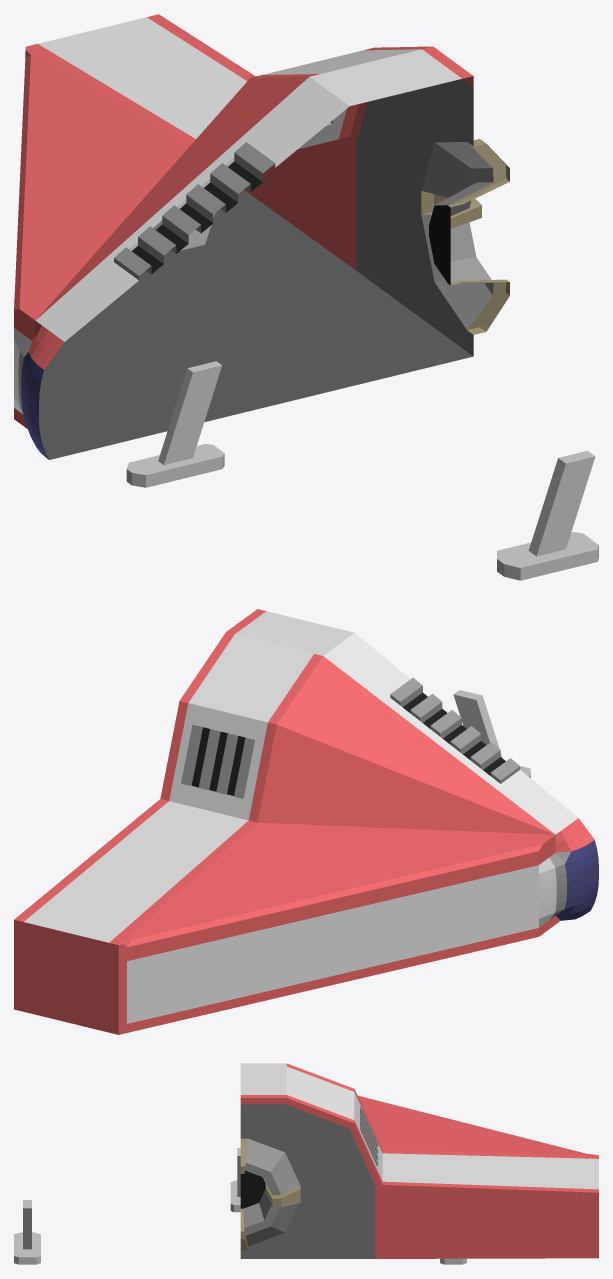
The model's file is astro2.1.glb.
The picture shows the model from 3 angles, top to bottom: view 1: azimuth 30°, elevation 25°; view 2: azimuth 150°, elevation 25°; view 3: azimuth 270°, elevation 25°; orthographic projection. The views are drawn at different scales.
Visible parts, largest first — view 1: Cube, Landing Gear Pipe.001, Landing Gear Pipe; view 2: Cube, Landing Gear Pipe.001; view 3: Cube, Landing Gear Pipe.001, Landing Gear Pipe.
Part boxes in pixels (x1,y1,x2,y2): Cube: (14,14,509,459); Landing Gear Pipe.001: (497,451,598,580); Landing Gear Pipe: (126,361,224,487); Cube: (14,609,598,1034); Landing Gear Pipe.001: (453,690,530,777); Cube: (240,1063,598,1258); Landing Gear Pipe.001: (14,1200,40,1264); Landing Gear Pipe: (230,1148,240,1212).
Size of the model in its own units: 2.2 by 1.44 by 4.12.
